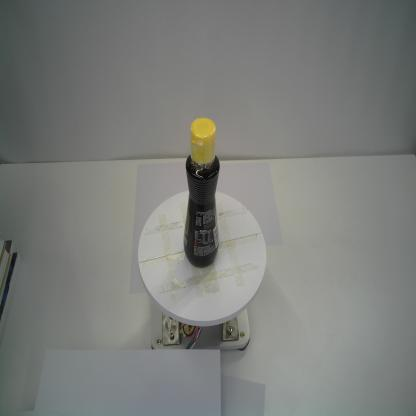Seasoner: (184, 116, 221, 269)
